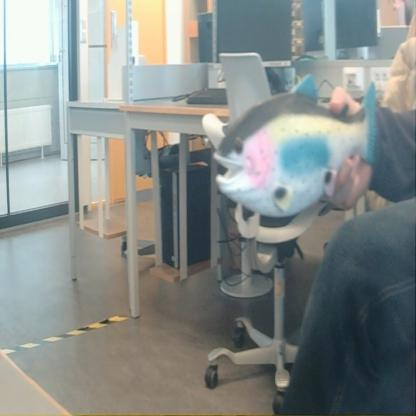rubberfish: (206, 69, 382, 223)
